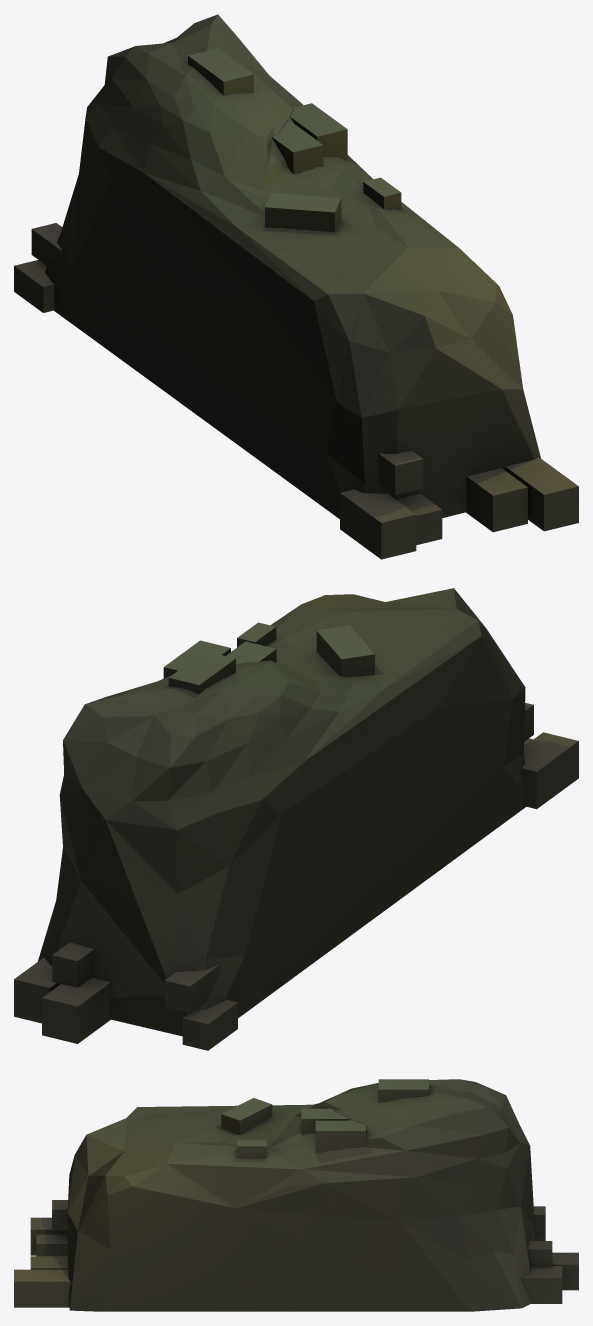
File: Mur_Ancien.fbx
3 renders of one model, top to bottom at view 1: azimuth 30°, elevation 25°; view 2: azimuth 150°, elevation 25°; view 3: azimuth 270°, elevation 25°, orthographic. The views are drawn at different scales.
Visible parts, largest first — view 1: Cube; view 2: Cube; view 3: Cube.
Boxes of the visible parts, bbox=[...] form: Cube: bbox=[14, 14, 578, 559]; Cube: bbox=[14, 588, 578, 1050]; Cube: bbox=[14, 1079, 578, 1311].
Bounding box in the file's own units: 212 × 276 × 727.
Materials: 1 (1 with a texture image).
